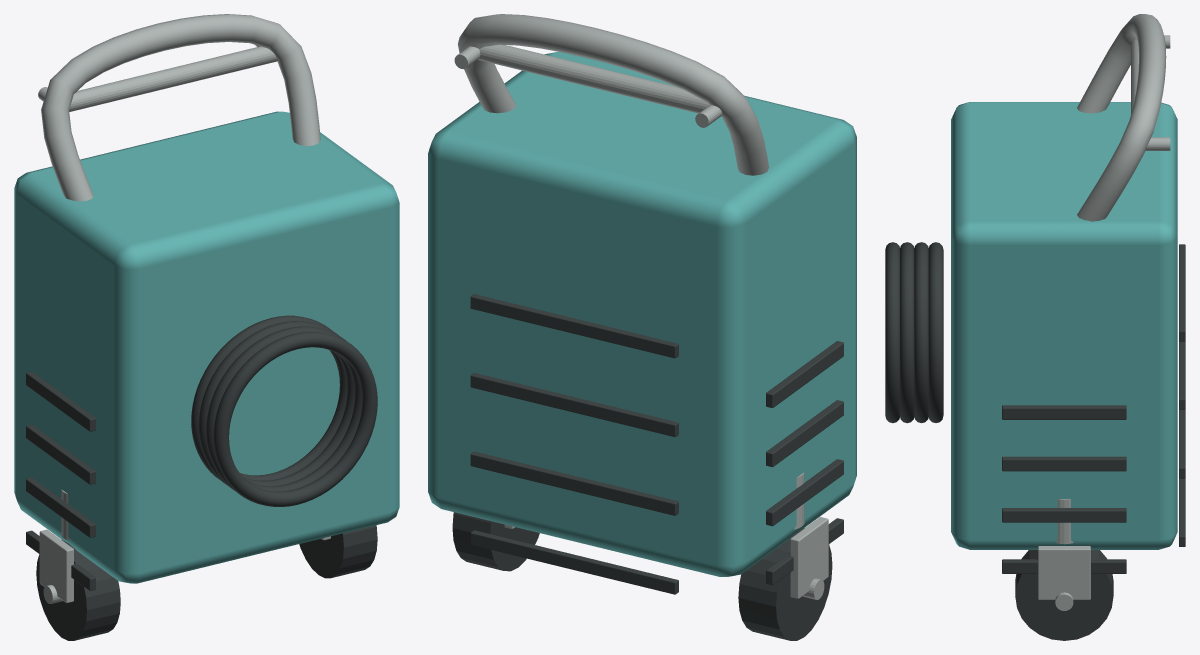
File: indoor-climbing-and-bouldering-gym-indoor-climbing-and-4021afc8__31538.glb
The picture shows the model from 3 angles, left to right: view 1: azimuth 30°, elevation 25°; view 2: azimuth 150°, elevation 25°; view 3: azimuth 270°, elevation 25°; orthographic projection. The views are drawn at different scales.
Visible parts, largest first — view 1: indoor-climbing-and-bouldering-gym-compact-pressure-washer; view 2: indoor-climbing-and-bouldering-gym-compact-pressure-washer; view 3: indoor-climbing-and-bouldering-gym-compact-pressure-washer.
Boxes of the visible parts, box(x1,y1,x2,y2) form: indoor-climbing-and-bouldering-gym-compact-pressure-washer: box(14, 14, 399, 640); indoor-climbing-and-bouldering-gym-compact-pressure-washer: box(428, 14, 856, 640); indoor-climbing-and-bouldering-gym-compact-pressure-washer: box(885, 14, 1185, 640).
Size of the model in its own units: 0.47 by 0.7699 by 0.3975.
